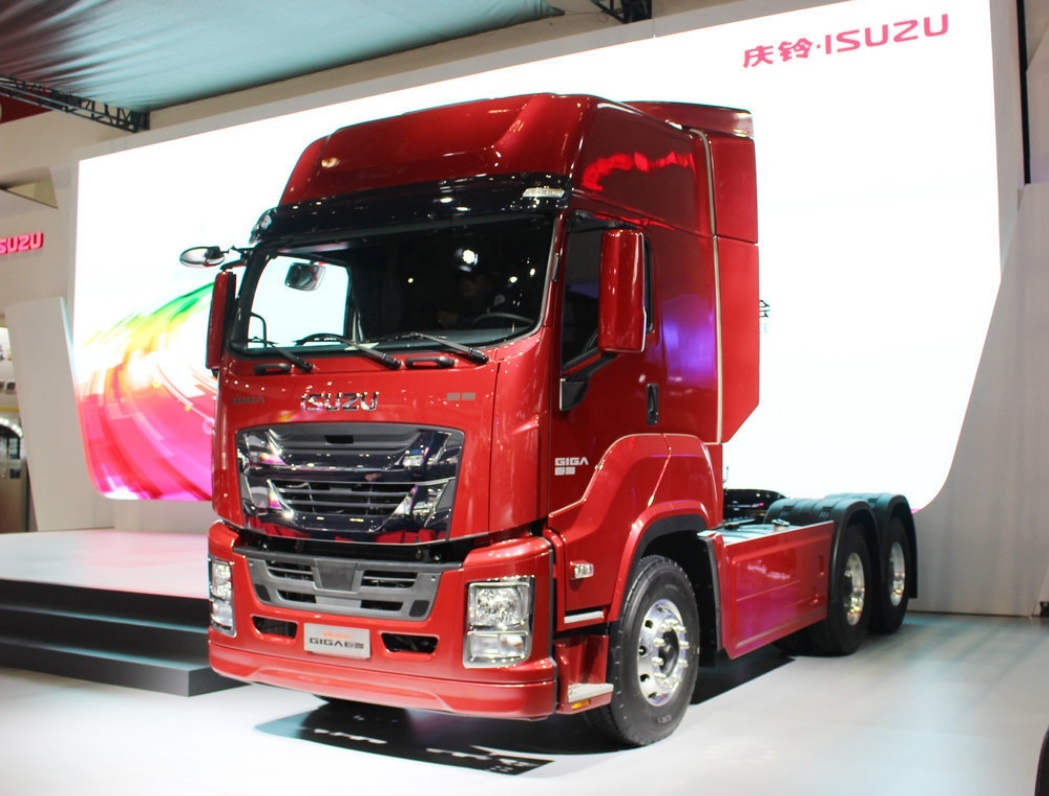heavy truck: (172, 71, 940, 758)
